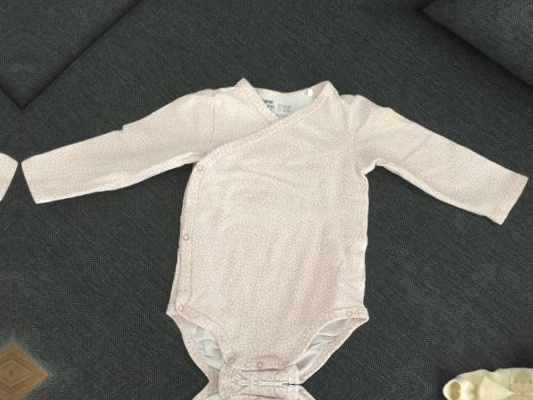Body: (18, 68, 528, 392), (6, 376, 516, 400), (0, 47, 16, 371), (530, 88, 533, 400), (0, 356, 3, 400), (518, 397, 533, 400)
